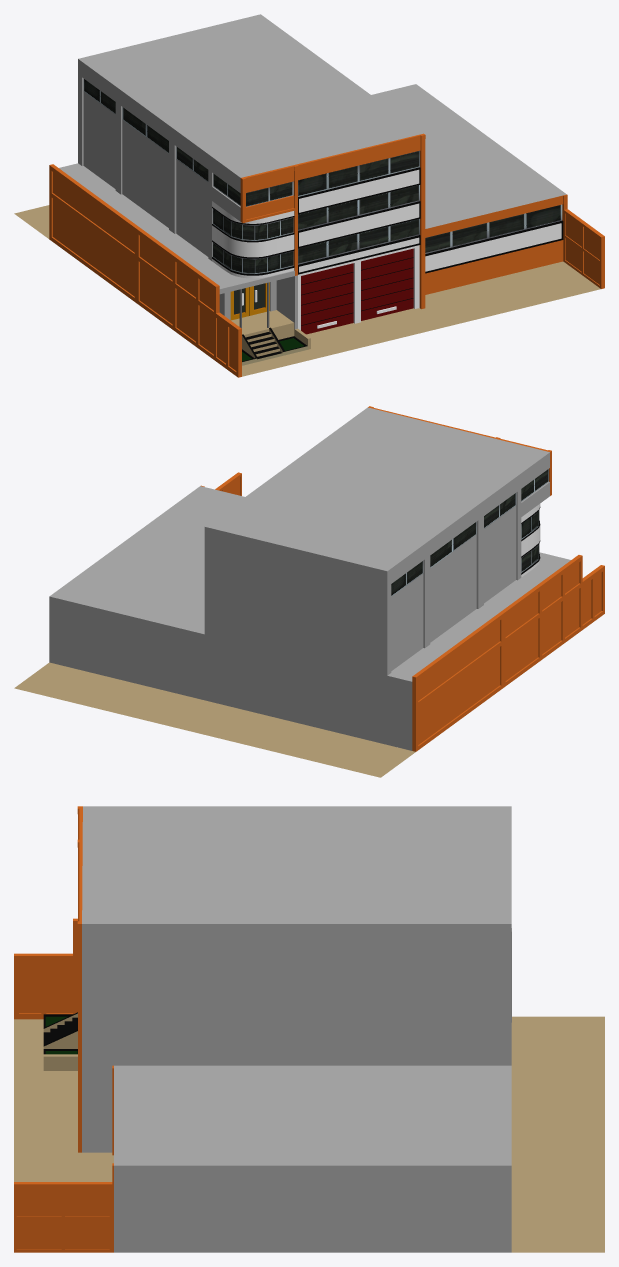
3 renders of one model, top to bottom at view 1: azimuth 30°, elevation 25°; view 2: azimuth 150°, elevation 25°; view 3: azimuth 270°, elevation 25°, orthographic. The views are drawn at different scales.
Parts seen in each view (by area): view 1: BB-001; view 2: BB-001; view 3: BB-001.
Boxes of the visible parts, bbox=[...] form: BB-001: bbox=[14, 14, 604, 377]; BB-001: bbox=[14, 406, 604, 777]; BB-001: bbox=[14, 806, 604, 1252].
Size of what is drawn, in the model's own units: 18.89 by 8.54 by 20.
